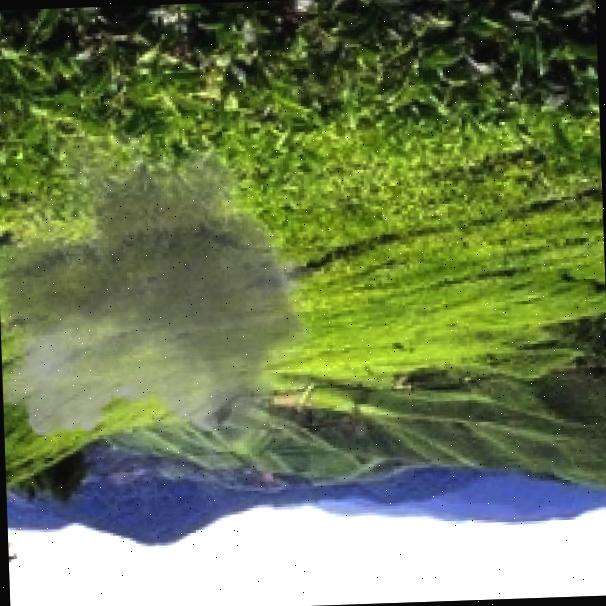smoke: (0, 96, 338, 522)
